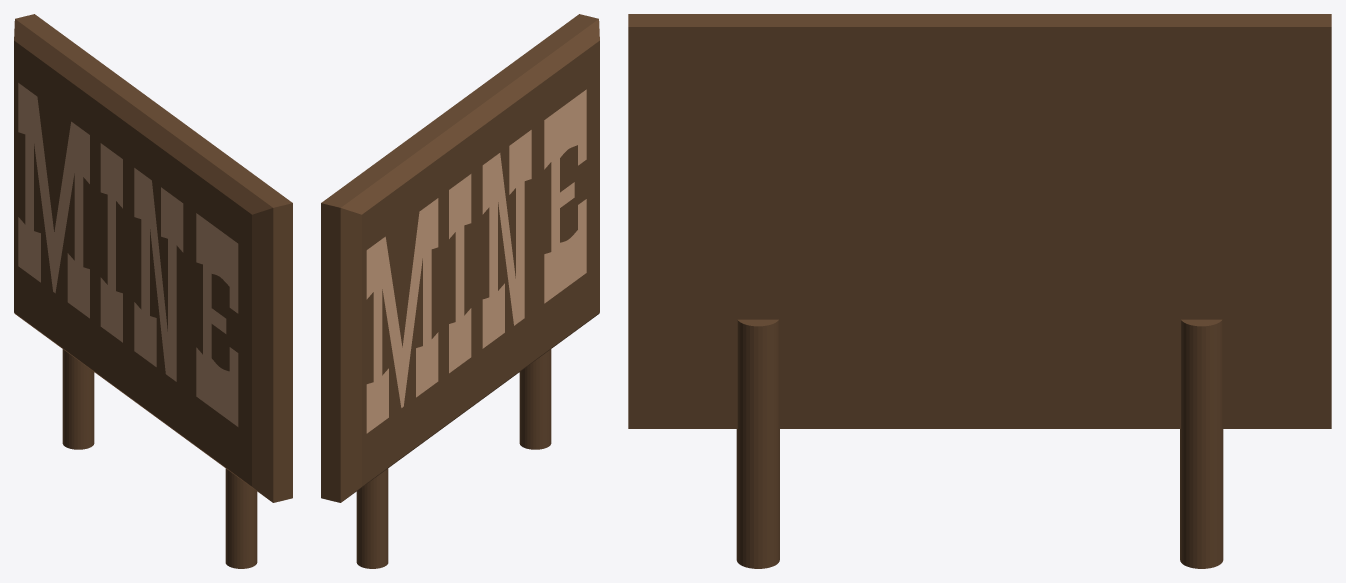
The model's file is MINE.fbx.
3 renders of one model, left to right at view 1: azimuth 30°, elevation 25°; view 2: azimuth 150°, elevation 25°; view 3: azimuth 270°, elevation 25°, orthographic. The views are drawn at different scales.
Visible parts, largest first — view 1: Cube.007, Text, Cylinder, Cylinder.001; view 2: Cube.007, Text, Cylinder.001, Cylinder; view 3: Cube.007, Cylinder, Cylinder.001.
Part boxes in pixels (bbox=[...]): Cube.007: bbox=[14, 14, 292, 502]; Text: bbox=[18, 83, 238, 426]; Cylinder: bbox=[62, 349, 94, 449]; Cylinder.001: bbox=[225, 468, 257, 568]; Cube.007: bbox=[321, 14, 599, 502]; Text: bbox=[366, 89, 586, 433]; Cylinder.001: bbox=[519, 349, 551, 449]; Cylinder: bbox=[356, 468, 388, 568]; Cube.007: bbox=[628, 14, 1331, 428]; Cylinder: bbox=[1180, 319, 1223, 568]; Cylinder.001: bbox=[736, 319, 779, 568].
Size of the model in its own units: 28.97 by 266 by 317.
